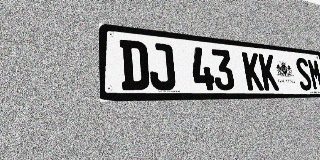3: (211, 49, 235, 90)
4: (190, 46, 215, 90)
D: (119, 39, 150, 90)
J: (148, 42, 176, 90)
K: (242, 52, 264, 90), (258, 53, 279, 90)
M: (307, 58, 320, 90)
S: (294, 57, 313, 90)
